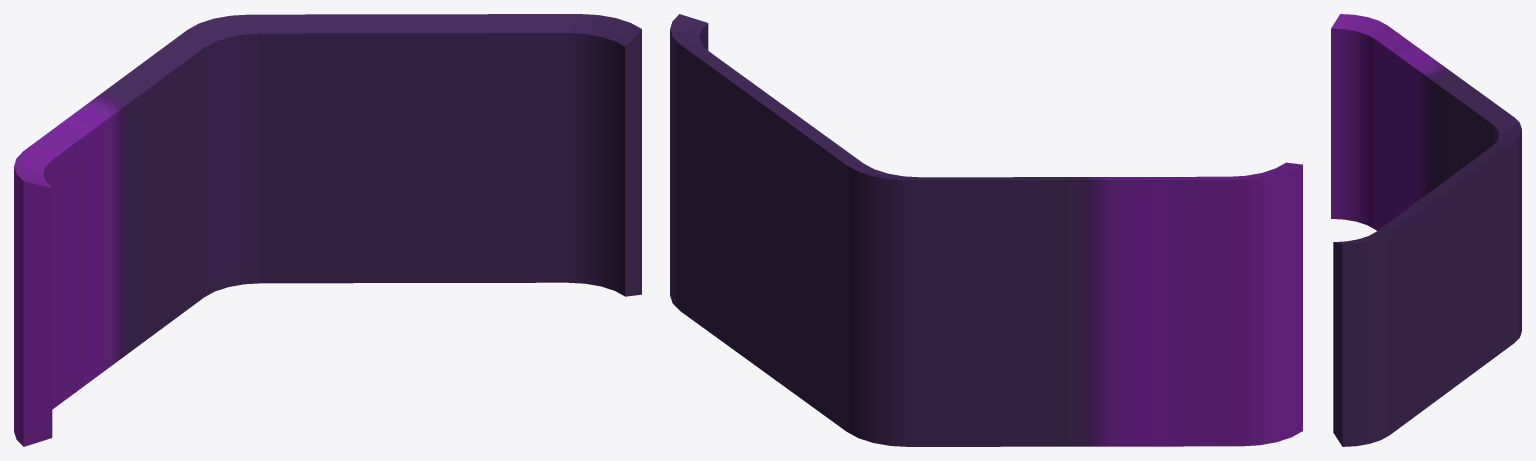
File: wallMeeting.fbx
3 views of the same model, side by side, from view 1: azimuth 30°, elevation 25°; view 2: azimuth 150°, elevation 25°; view 3: azimuth 270°, elevation 25° (orthographic). The views are drawn at different scales.
Visible parts, largest first — view 1: wall_Meeting; view 2: wall_Meeting; view 3: wall_Meeting.
Part boxes in pixels (x1,y1,x2,y2): wall_Meeting: (14, 14, 641, 446); wall_Meeting: (670, 14, 1302, 446); wall_Meeting: (1331, 14, 1521, 446).
Bounding box in the file's own units: 443 × 182 × 155.
